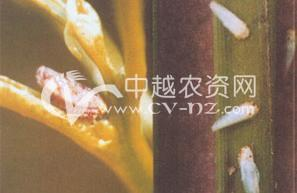Cicadellidae: (36, 65, 110, 124)
